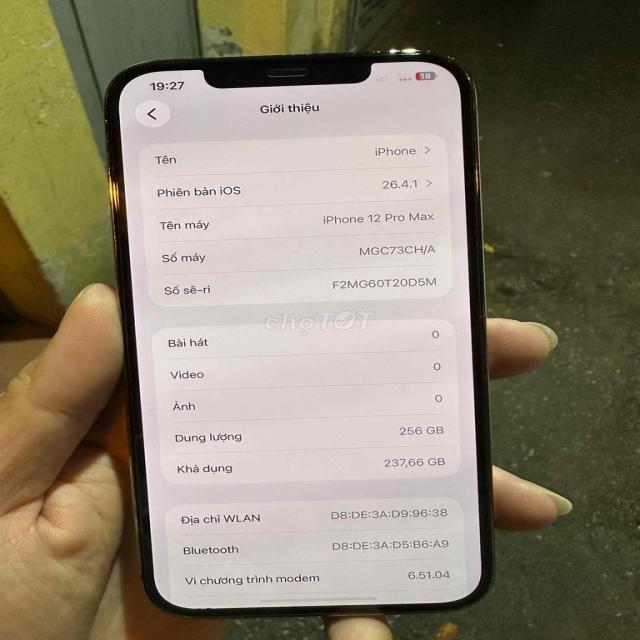gen_12_13: (105, 46, 499, 624)
